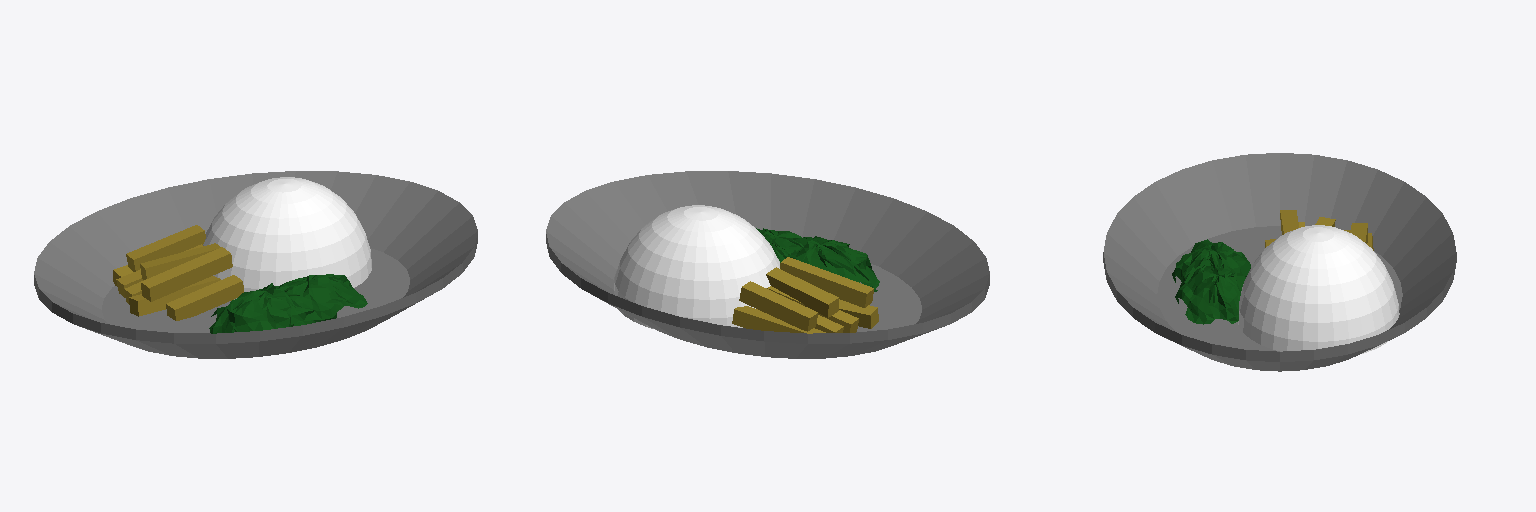
The model's file is rice3_meat3_veg2.obj.
3 views of the same model, side by side, from view 1: azimuth 30°, elevation 25°; view 2: azimuth 150°, elevation 25°; view 3: azimuth 270°, elevation 25° (orthographic).
Parts seen in each view (by area): view 1: Cylinder, Sphere, Sphere.002, Sphere.001, Cube.007, Cube.004_Cube.005, Cube.005_Cube.000, Cube.002_Cube.003, Cube.006; view 2: Cylinder, Sphere, Sphere.002, Cube.007, Cube.005_Cube.000, Cube.006, Cube.003_Cube.004, Sphere.001, Cube.002_Cube.003, Cube.001_Cube.002; view 3: Cylinder, Sphere, Sphere.001, Sphere.002.
Boxes of the visible parts, x1=… form: Cylinder: x1=34, y1=171, x2=477, y2=358; Sphere: x1=203, y1=177, x2=371, y2=299; Sphere.002: x1=209, y1=283, x2=314, y2=333; Sphere.001: x1=278, y1=274, x2=367, y2=326; Cube.007: x1=141, y1=247, x2=232, y2=301; Cube.004_Cube.005: x1=166, y1=275, x2=243, y2=320; Cube.005_Cube.000: x1=126, y1=225, x2=205, y2=271; Cube.002_Cube.003: x1=129, y1=276, x2=220, y2=316; Cube.006: x1=140, y1=243, x2=220, y2=279; Cylinder: x1=546, y1=171, x2=989, y2=358; Sphere: x1=614, y1=205, x2=779, y2=330; Sphere.002: x1=783, y1=236, x2=879, y2=291; Cube.007: x1=780, y1=257, x2=873, y2=307; Cube.005_Cube.000: x1=739, y1=281, x2=817, y2=331; Cube.006: x1=766, y1=267, x2=838, y2=317; Cube.003_Cube.004: x1=732, y1=306, x2=825, y2=333; Sphere.001: x1=756, y1=228, x2=803, y2=262; Cube.002_Cube.003: x1=839, y1=299, x2=878, y2=328; Cube.001_Cube.002: x1=767, y1=286, x2=858, y2=332; Cylinder: x1=1103, y1=153, x2=1456, y2=371; Sphere: x1=1238, y1=225, x2=1399, y2=353; Sphere.001: x1=1175, y1=264, x2=1245, y2=324; Sphere.002: x1=1172, y1=239, x2=1250, y2=284.
Size of the model in its own units: 5.75 by 1.25 by 4.31.